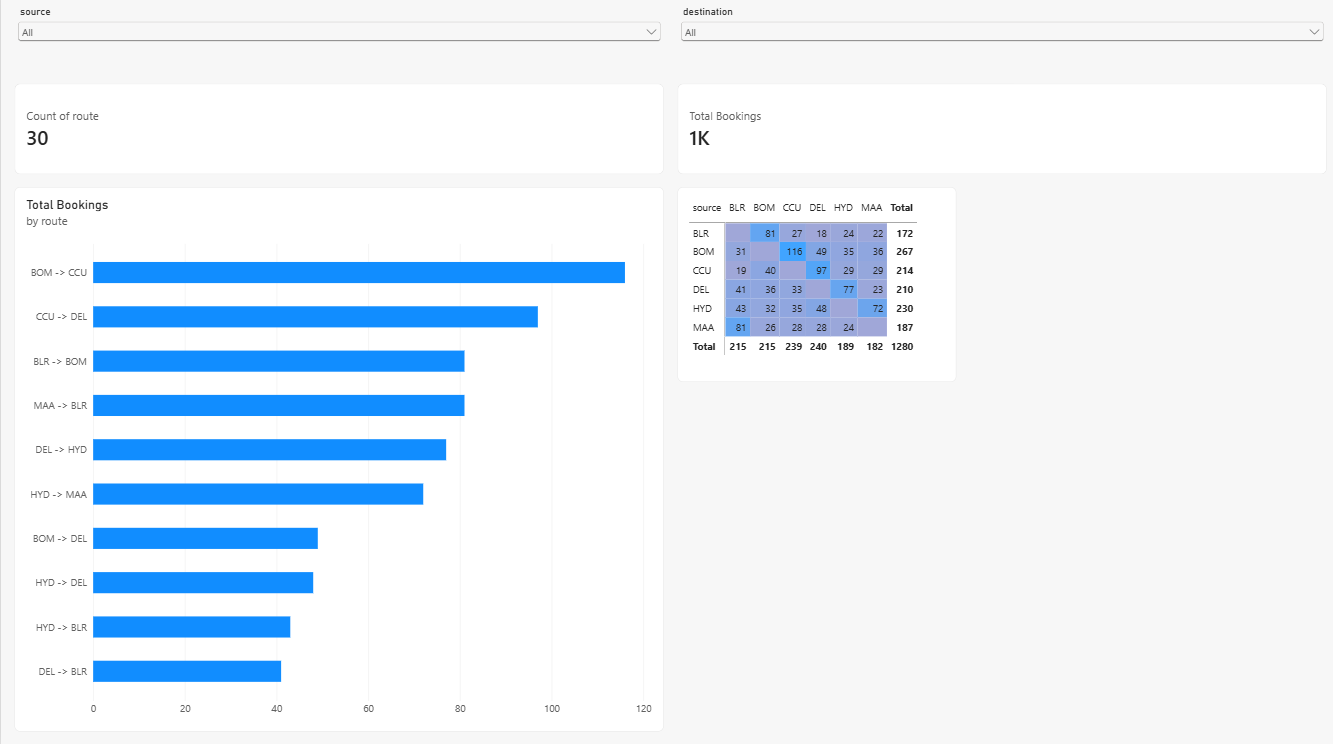

This screenshot's page, from the dashboard's own definition file:
{"tool":"powerbi","page":{"name":"Route Performace","canvas":[1920,1080],"ordinal":1},"visuals":[{"type":"slicer","fields":{"Values":["dim_flights.source"]},"box":[20,20,930,90],"z":0},{"type":"slicer","fields":{"Values":["dim_flights.destination"]},"box":[970,20,930,90],"z":1000},{"type":"cardVisual","fields":{"Data":["Count(dim_flights.route)"]},"box":[20,130,930,130],"z":2000},{"type":"cardVisual","fields":{"Data":["_Measures.Total Bookings"]},"box":[970,130,930,130],"z":3000},{"type":"clusteredBarChart","fields":{"Category":["dim_flights.route"],"Y":["_Measures.Total Bookings"]},"box":[20,280,930,780],"z":4000},{"type":"pivotTable","fields":{"Columns":["dim_flights.destination"],"Rows":["dim_flights.source"],"Values":["_Measures.Total Bookings"]},"box":[969,279.3,399.6,279.3],"z":5000}]}

Visuals, with their boxes in screenshot pixels (x1, y1, x2, y2), scaled from the page's 1920x1080 canvas onto the 1333x744 screenshot:
slicer - dim_flights.source: [left=14, top=14, right=660, bottom=76]
slicer - dim_flights.destination: [left=673, top=14, right=1319, bottom=76]
cardVisual - Count(dim_flights.route): [left=14, top=90, right=660, bottom=179]
cardVisual - _Measures.Total Bookings: [left=673, top=90, right=1319, bottom=179]
clusteredBarChart - dim_flights.route x _Measures.Total Bookings: [left=14, top=193, right=660, bottom=730]
pivotTable - dim_flights.destination x dim_flights.source: [left=673, top=192, right=950, bottom=385]
